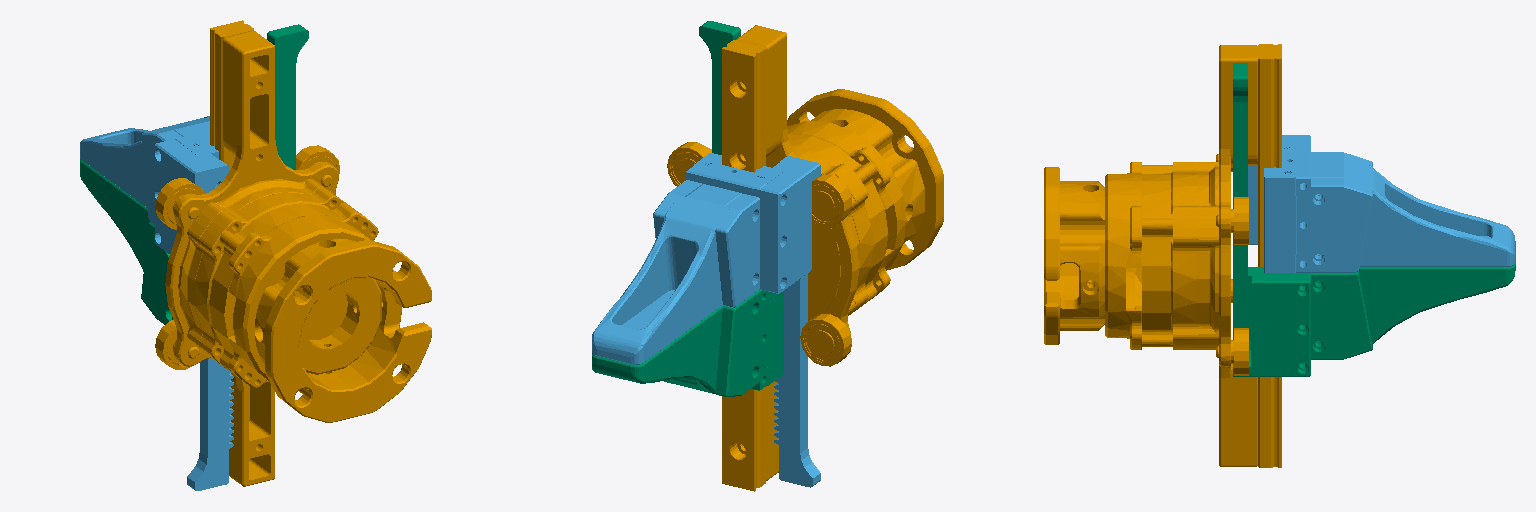
URDF robot description (generated_robot):
<?xml version='1.0' encoding='utf-8'?>
<robot name="generated_robot">
  <link name="base_link">
    <inertial>
      <origin xyz="-0.00027598768 0.0035001143 0.00039265013" rpy="0 0 0" />
      <mass value="0.51" />
      <inertia ixx="0.00071665148" iyy="0.00052915767" izz="0.00041995204" ixy="-5.3450798e-06" ixz="-6.8755686e-08" iyz="-4.0452835e-06" />
    </inertial>
    <visual>
      <origin xyz="-3.643e-07 -0.0069500008 0" rpy="0 0 0" />
      <geometry>
        <mesh filename="../urdf/meshes/gripper/gripper_base.stl" scale="0.001 0.001 0.001" />
      </geometry>
    </visual>
    <visual>
      <origin xyz="-3.643e-07 -0.0069500008 0" rpy="0 0 0" />
      <geometry>
        <mesh filename="../urdf/meshes/gripper/gripper_wrist_adapter.stl" scale="0.001 0.001 0.001" />
      </geometry>
    </visual>
    <collision>
      <origin xyz="-3.643e-07 -0.0069500008 0" rpy="0 0 0" />
      <geometry>
        <mesh filename="../urdf/meshes/gripper/gripper_base.stl" scale="0.001 0.001 0.001" />
      </geometry>
    </collision>
    <collision>
      <origin xyz="-3.643e-07 -0.0069500008 0" rpy="0 0 0" />
      <geometry>
        <mesh filename="../urdf/meshes/gripper/gripper_wrist_adapter.stl" scale="0.001 0.001 0.001" />
      </geometry>
    </collision>
  </link>
  <link name="gripper_drive_finger_link">
    <inertial>
      <origin xyz="-0.0043623111 0.017585982 0.011108303" rpy="0 0 0" />
      <mass value="0.12" />
      <inertia ixx="9.213148e-05" iyy="5.1164294e-05" izz="6.2146685e-05" ixy="-8.4486235e-06" ixz="-4.1499879e-06" iyz="-6.0678465e-06" />
    </inertial>
    <visual>
      <origin xyz="-0.001077354 -0.042490726 4.17777e-06" rpy="0.00034896044 0.01763831 0" />
      <geometry>
        <mesh filename="../urdf/meshes/gripper/gripper_drive_finger.stl" scale="0.001 0.001 0.001" />
      </geometry>
    </visual>
    <collision>
      <origin xyz="-0.001077354 -0.042490726 4.17777e-06" rpy="0.00034896044 0.01763831 0" />
      <geometry>
        <mesh filename="../urdf/meshes/gripper/gripper_drive_finger.stl" scale="0.001 0.001 0.001" />
      </geometry>
    </collision>
  </link>
  <link name="gripper_follower_finger_link">
    <inertial>
      <origin xyz="0.0018467707 -0.018289125 0.010956665" rpy="0 0 0" />
      <mass value="0.12" />
      <inertia ixx="9.2371244e-05" iyy="5.1132394e-05" izz="6.1922212e-05" ixy="-8.2440715e-06" ixz="3.098151e-06" iyz="6.3273718e-06" />
    </inertial>
    <visual>
      <origin xyz="-0.0018126671 0.04180969 0.00010409428" rpy="-3.1398178 0.016484454 0" />
      <geometry>
        <mesh filename="../urdf/meshes/gripper/gripper_follower_finger.stl" scale="0.001 0.001 0.001" />
      </geometry>
    </visual>
    <collision>
      <origin xyz="-0.0018126671 0.04180969 0.00010409428" rpy="-3.1398178 0.016484454 0" />
      <geometry>
        <mesh filename="../urdf/meshes/gripper/gripper_follower_finger.stl" scale="0.001 0.001 0.001" />
      </geometry>
    </collision>
  </link>
  <joint name="gripper_drive_finger_joint" type="prismatic">
    <origin xyz="0.0010768958 0.035540728 -2.984216e-09" rpy="-0.00034901473 -0.017638309 6.1557108e-06" />
    <parent link="base_link" />
    <child link="gripper_drive_finger_link" />
    <axis xyz="0 0 1" />
    <limit lower="0" upper="0.04" effort="10" velocity="5" />
  </joint>
  <joint name="gripper_follower_finger_joint" type="prismatic">
    <origin xyz="0.0018137724 0.034859755 -5.0765176e-09" rpy="3.1398176 0.016484428 -2.9259965e-05" />
    <parent link="base_link" />
    <child link="gripper_follower_finger_link" />
    <axis xyz="0 0 1" />
    <limit lower="0" upper="0.04" effort="10" velocity="5" />
    <mimic joint="gripper_drive_finger_joint" multiplier="1" offset="0" />
  </joint>
</robot>

--- Render facts (derived) ---
Views: 3 orthographic renders of the robot side by side, from view 1: azimuth 30°, elevation 25°; view 2: azimuth 150°, elevation 25°; view 3: azimuth 270°, elevation 25°.
Model generated_robot with 3 links and 2 joints (2 prismatic), rooted at base_link, posed all joints at 0.
Links seen in each view (by area): view 1: base_link, gripper_drive_finger_link, gripper_follower_finger_link; view 2: base_link, gripper_drive_finger_link, gripper_follower_finger_link; view 3: base_link, gripper_drive_finger_link, gripper_follower_finger_link.
Link boxes in pixels (bbox=[...]): base_link: bbox=[155, 20, 431, 486]; gripper_drive_finger_link: bbox=[80, 116, 233, 490]; gripper_follower_finger_link: bbox=[80, 24, 308, 324]; base_link: bbox=[667, 25, 943, 491]; gripper_drive_finger_link: bbox=[592, 153, 820, 487]; gripper_follower_finger_link: bbox=[592, 21, 783, 396]; base_link: bbox=[1044, 44, 1281, 467]; gripper_drive_finger_link: bbox=[1248, 135, 1515, 272]; gripper_follower_finger_link: bbox=[1233, 63, 1515, 376].
Size in the robot's own frame: 0.0641 by 0.1567 by 0.15 metres.
4 mesh visuals loaded from 4 distinct referenced files (4 binary STL).
